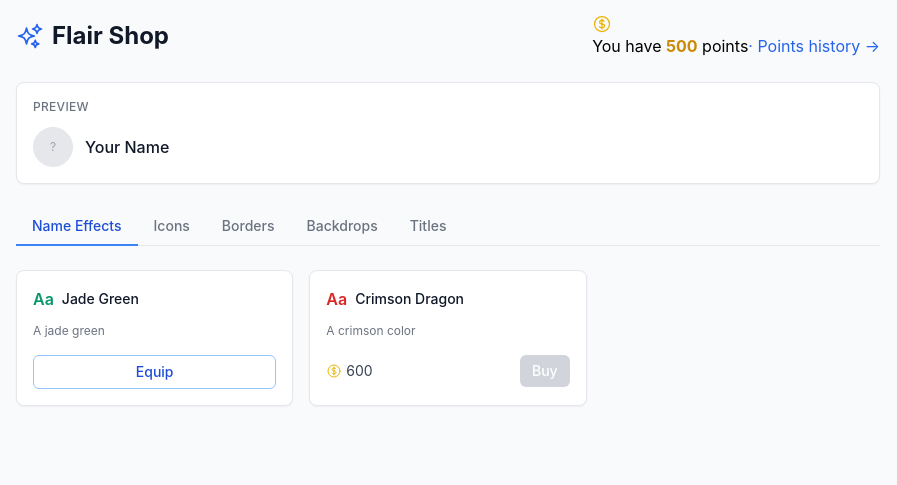
Scenario: Shop page › equip feedback › shows the server message as an alert when equipping is rejected
Click the button "Equip".
click(155, 372)  # box [33,355,276,389]
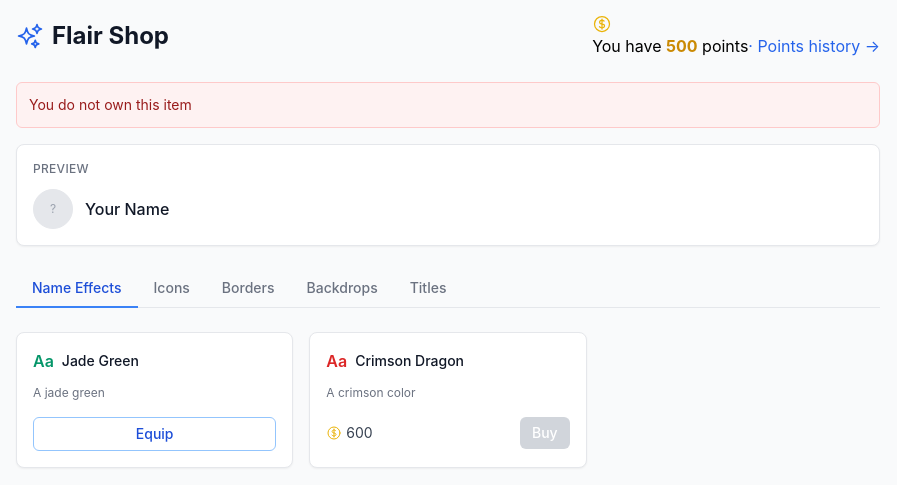
Now the message reads "You do not own this item", box [29,96,192,113]
